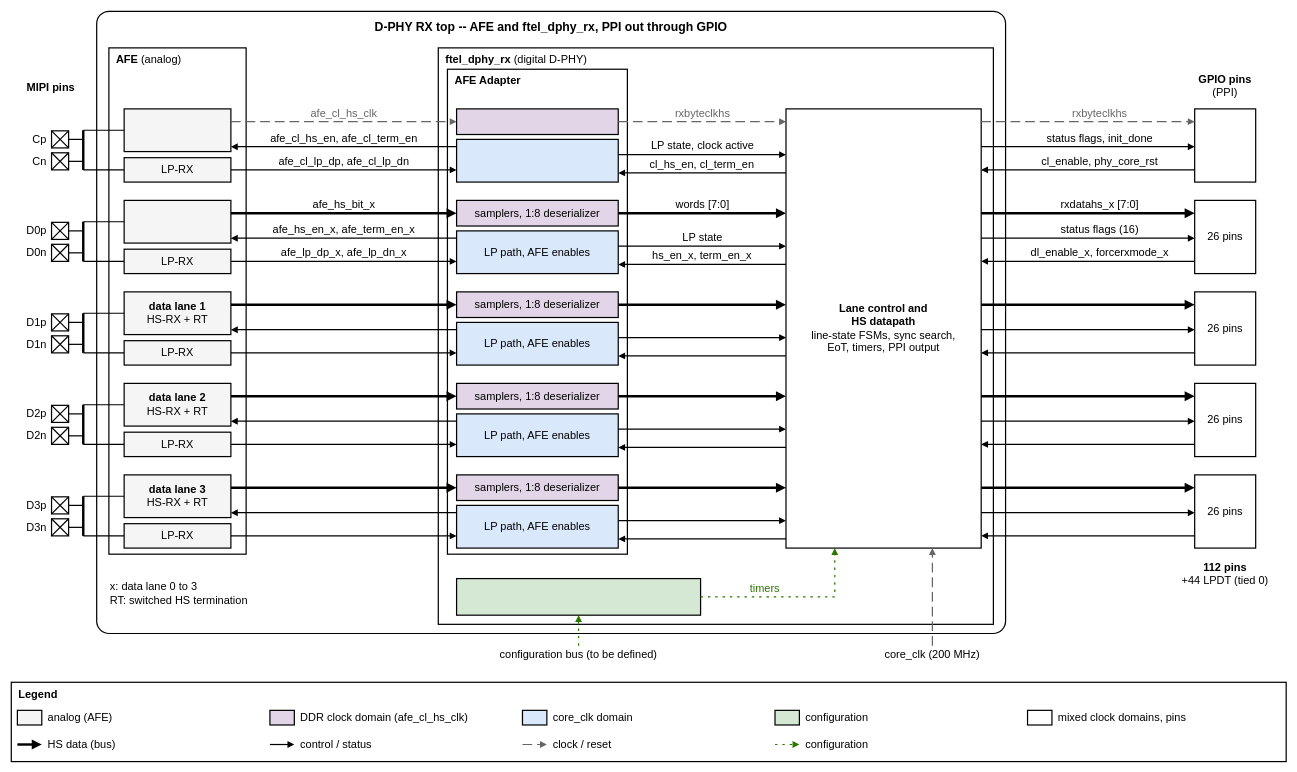
The diagram is 1297 pixels wide and 772 high, and some of its shapes have lost their labels. Here are the shapes that lost their labels. From the top down, the centre of each, then its label:
the point at 177,130: clock lane HS-RX + RT
the point at 537,121: byte clock, /4
the point at 537,160: LP path, clock activity, AFE enables
the point at 1225,145: 8 pins
the point at 177,221: data lane 0 HS-RX + RT
the point at 578,596: Configuration & Status
